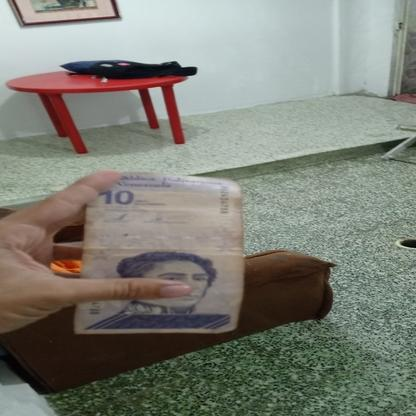ten-front-vef: (77, 171, 240, 334)
